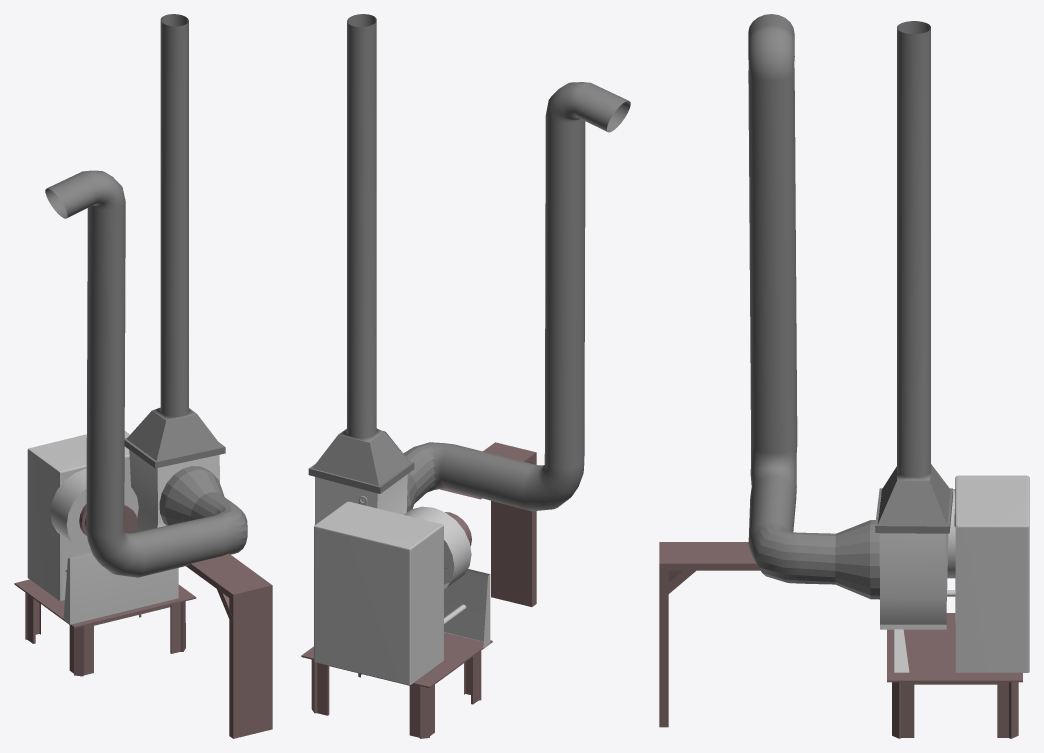
The model's file is Generator3.fbx.
3 renders of one model, left to right at view 1: azimuth 30°, elevation 25°; view 2: azimuth 150°, elevation 25°; view 3: azimuth 270°, elevation 25°, orthographic. The views are drawn at different scales.
Parts seen in each view (by area): view 1: polySurface716; view 2: polySurface716; view 3: polySurface716.
Boxes of the visible parts, box(x1,y1,x2,y2) form: polySurface716: box(14, 14, 272, 738); polySurface716: box(301, 14, 630, 738); polySurface716: box(659, 14, 1029, 738).
Size of the model in its own units: 0.7494 by 2.02 by 0.9587.
